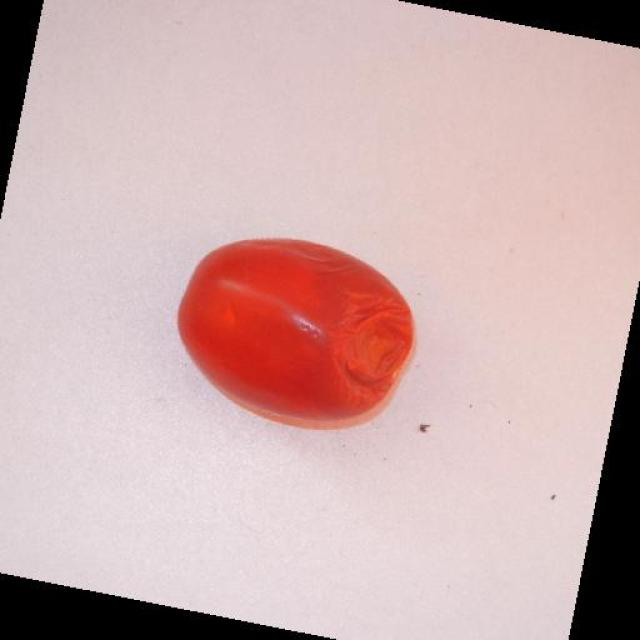Stale_tomato: (216, 254, 382, 388)
